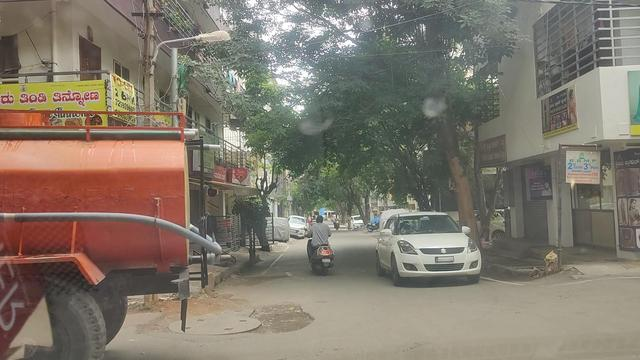LMV: (374, 208, 483, 288), (307, 215, 336, 274)
RoadDamages: (223, 294, 316, 343)
